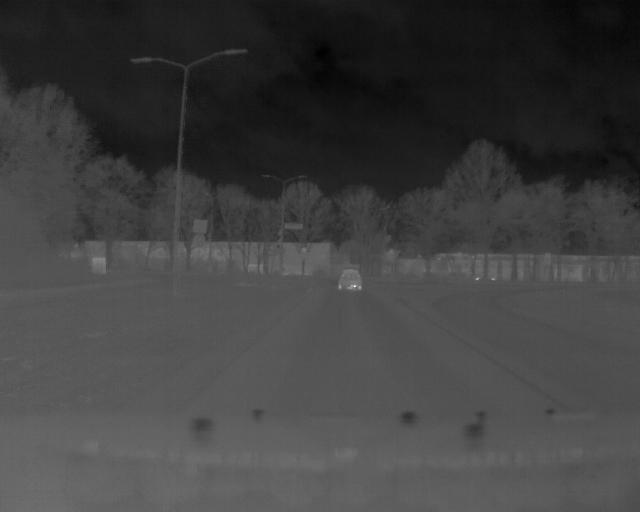car: (337, 266, 364, 293)
